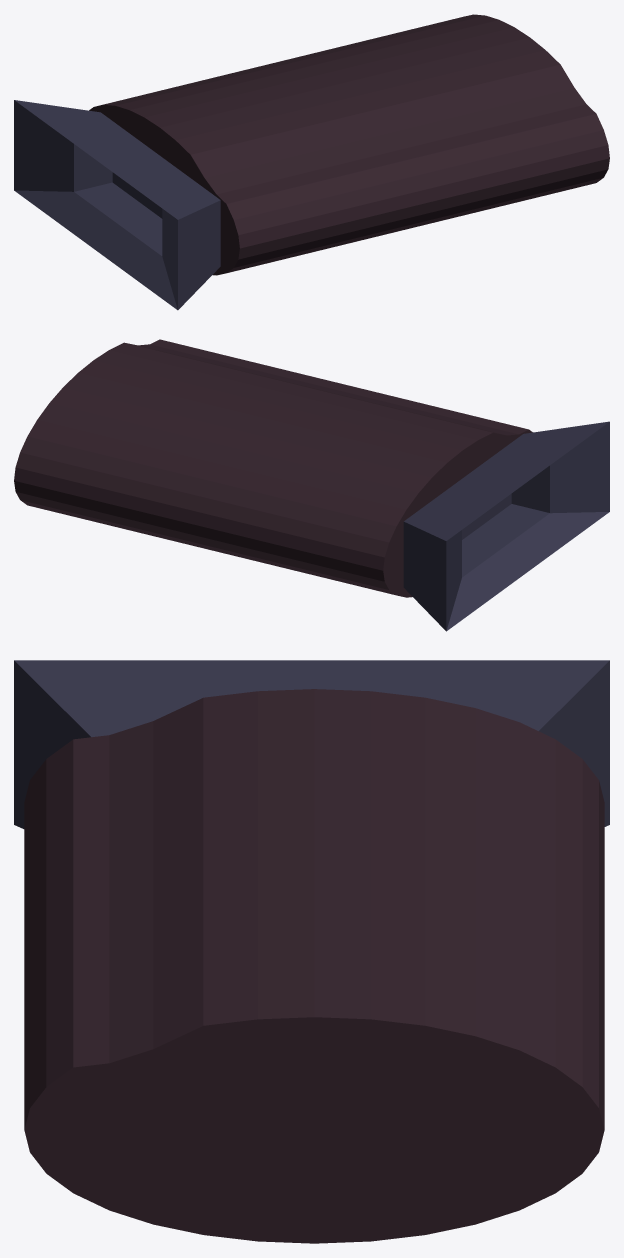
File: zbiornik.fbx
The picture shows the model from 3 angles, top to bottom: view 1: azimuth 30°, elevation 25°; view 2: azimuth 150°, elevation 25°; view 3: azimuth 270°, elevation 25°; orthographic projection. The views are drawn at different scales.
Parts seen in each view (by area): view 1: Cylinder; view 2: Cylinder; view 3: Cylinder.
Boxes of the visible parts, bbox=[...] form: Cylinder: bbox=[14, 14, 609, 310]; Cylinder: bbox=[14, 339, 609, 631]; Cylinder: bbox=[14, 660, 609, 1243].
Bounding box in the file's own units: 315 × 86.15 × 205.
